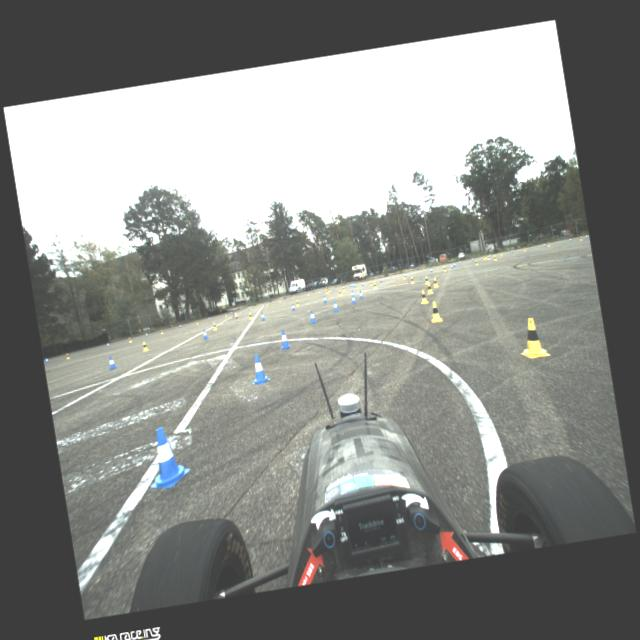blue_cone: (142, 424, 192, 491), (248, 353, 271, 385), (277, 328, 292, 351), (107, 356, 117, 370), (308, 310, 317, 324), (332, 300, 339, 312), (202, 328, 209, 339), (358, 290, 364, 300), (260, 312, 266, 321), (322, 296, 328, 304), (351, 296, 357, 304), (351, 289, 356, 298), (291, 303, 296, 311), (107, 342, 110, 348), (45, 358, 49, 362), (430, 268, 433, 272), (458, 260, 461, 264), (569, 238, 572, 242), (404, 272, 406, 277), (450, 263, 452, 268), (146, 333, 148, 337), (180, 324, 182, 328), (351, 283, 353, 287), (352, 283, 354, 287), (354, 283, 356, 287), (362, 282, 364, 286), (380, 278, 382, 282), (454, 263, 456, 267), (472, 258, 474, 262), (544, 243, 546, 247), (586, 234, 588, 238), (452, 262, 454, 266), (208, 317, 210, 320), (248, 307, 250, 310), (294, 295, 296, 298), (310, 291, 312, 294), (333, 287, 335, 290), (489, 254, 491, 257), (264, 304, 266, 306), (511, 250, 513, 252), (350, 284, 351, 287), (232, 311, 232, 314), (278, 300, 278, 302), (322, 290, 322, 292), (346, 284, 346, 287)
yellow_cone: (516, 316, 550, 360), (428, 300, 443, 324), (418, 289, 428, 305), (426, 282, 434, 294), (432, 277, 439, 288), (142, 341, 149, 351), (212, 322, 218, 331), (372, 282, 378, 289), (410, 276, 415, 284), (424, 276, 429, 284), (248, 312, 252, 320), (402, 274, 407, 280), (338, 290, 342, 296), (342, 286, 346, 292), (369, 280, 373, 286), (443, 266, 447, 272), (296, 300, 299, 307), (66, 354, 70, 359), (128, 338, 132, 343), (494, 255, 497, 261), (487, 255, 490, 260), (196, 320, 199, 324), (225, 312, 228, 316), (325, 290, 328, 294), (328, 288, 331, 292), (476, 260, 478, 265), (485, 254, 487, 259), (162, 330, 164, 334), (250, 306, 252, 310), (266, 302, 268, 306), (308, 292, 310, 296), (318, 290, 320, 294), (484, 256, 486, 260), (500, 252, 502, 256), (524, 247, 526, 251), (548, 242, 550, 246), (580, 236, 582, 240), (292, 296, 294, 299), (279, 299, 280, 302)
